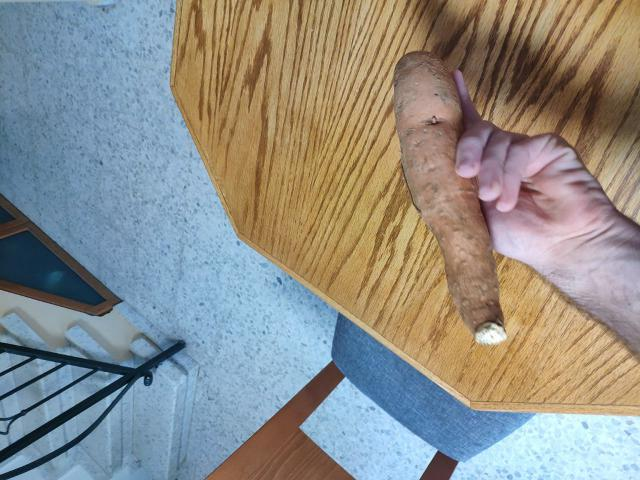sweet_potato: (380, 56, 517, 350)
